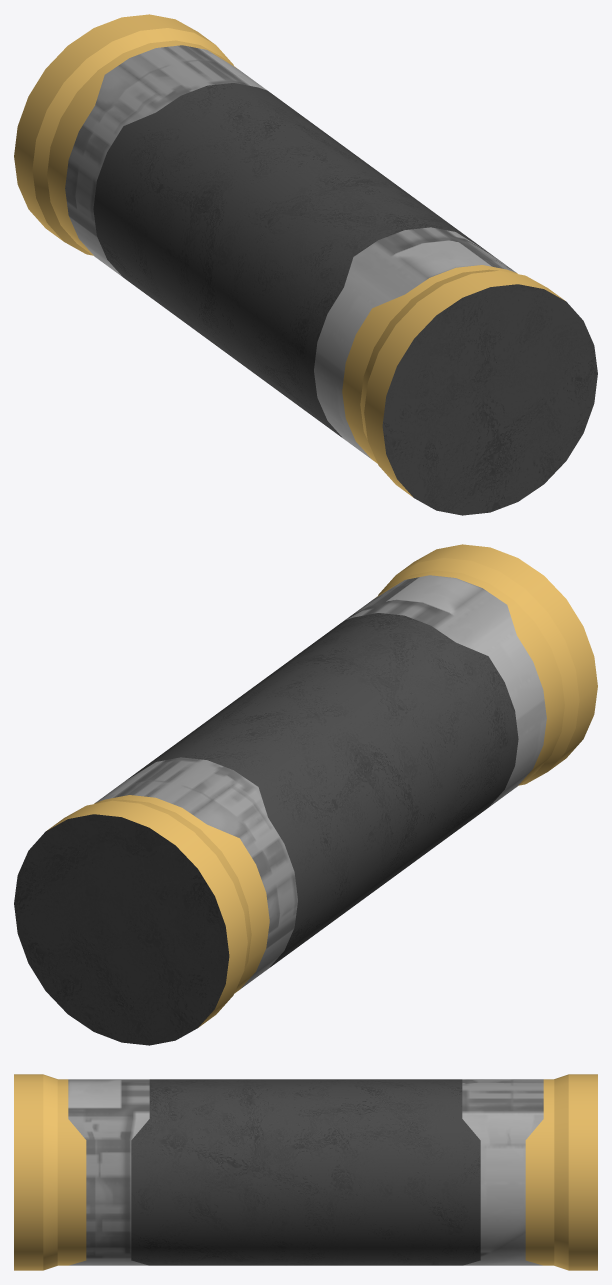
The model's file is Huge_pipe.fbx.
3 views of the same model, one above another, from view 1: azimuth 30°, elevation 25°; view 2: azimuth 150°, elevation 25°; view 3: azimuth 270°, elevation 25° (orthographic). The views are drawn at different scales.
Parts seen in each view (by area): view 1: Huge_pipe; view 2: Huge_pipe; view 3: Huge_pipe.
Part boxes in pixels (x1=…): Huge_pipe: x1=14, y1=14, x2=597, y2=515; Huge_pipe: x1=14, y1=544, x2=597, y2=1045; Huge_pipe: x1=14, y1=1074, x2=597, y2=1270.
Bounding box in the file's own units: 135 × 135 × 400.
